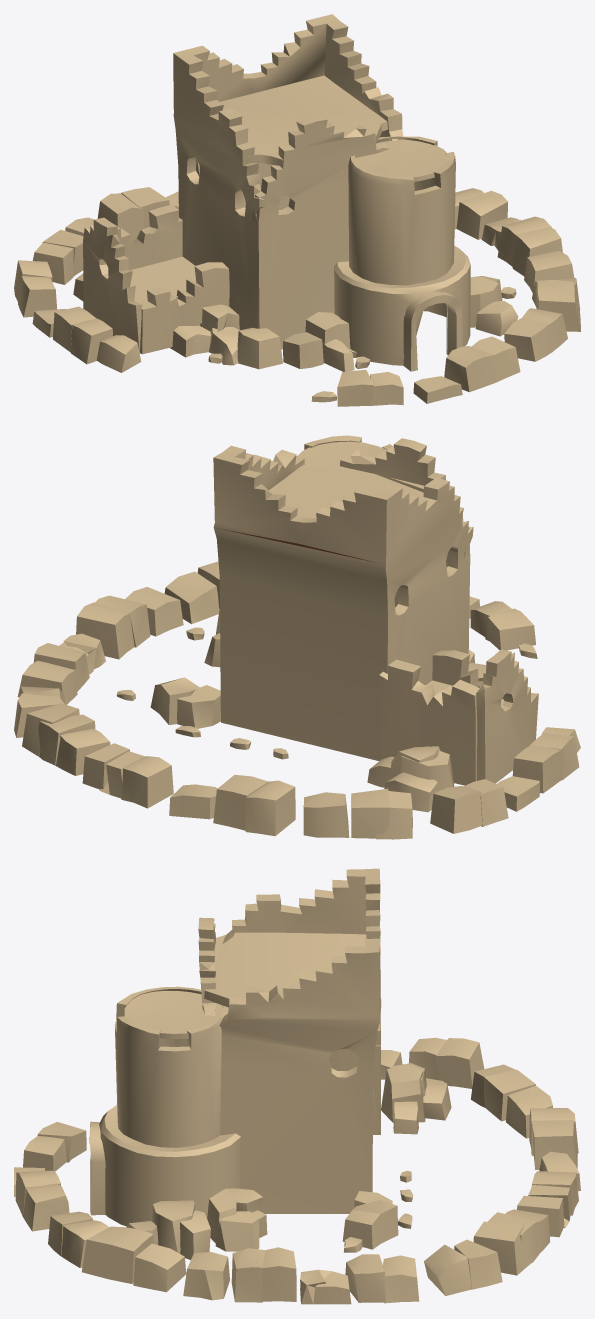
File: castle_d3.6.glb
The picture shows the model from 3 angles, top to bottom: view 1: azimuth 30°, elevation 25°; view 2: azimuth 150°, elevation 25°; view 3: azimuth 270°, elevation 25°; orthographic projection. The views are drawn at different scales.
Parts seen in each view (by area): view 1: castle; view 2: castle; view 3: castle.
Boxes of the visible parts, x1,y1,x2,y2 form: castle: (14,14,580,406); castle: (14,435,580,839); castle: (14,868,580,1304).
Bounding box in the file's own units: 2.9 × 1.51 × 2.9.
